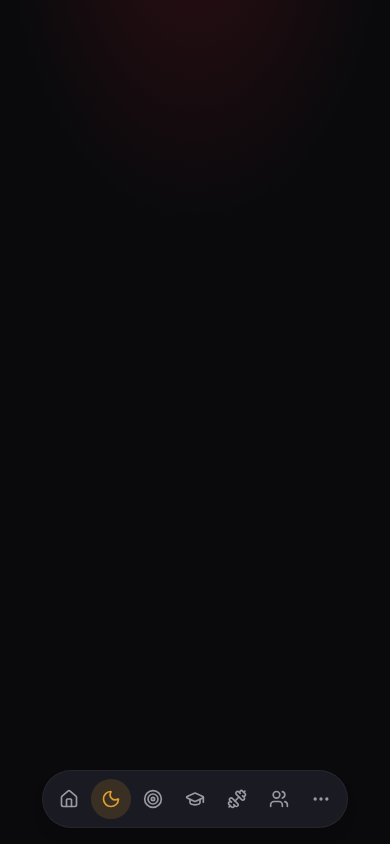
MobileIsland › reveals Insights and Settings links when tapping More
Expected: the link "insights" is not shown
Click the button named "more". click: (321, 799)
box: x1=301 y1=779 x2=341 y2=819
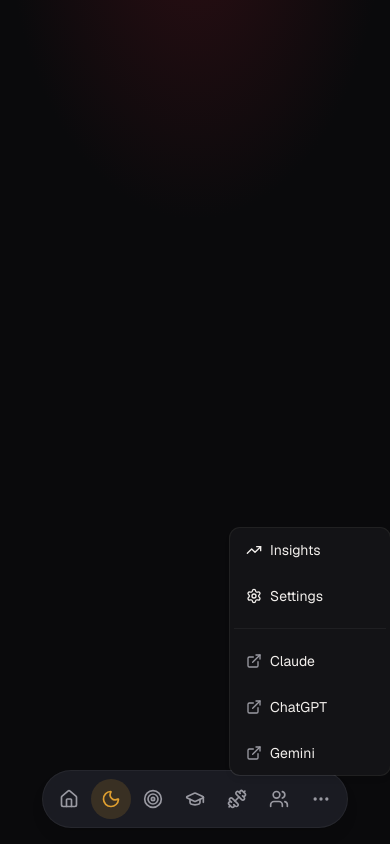
Result: the link "Insights" is shown at x1=246 y1=541 x2=320 y2=559
Result: the link "Settings" is shown at x1=246 y1=587 x2=323 y2=605
